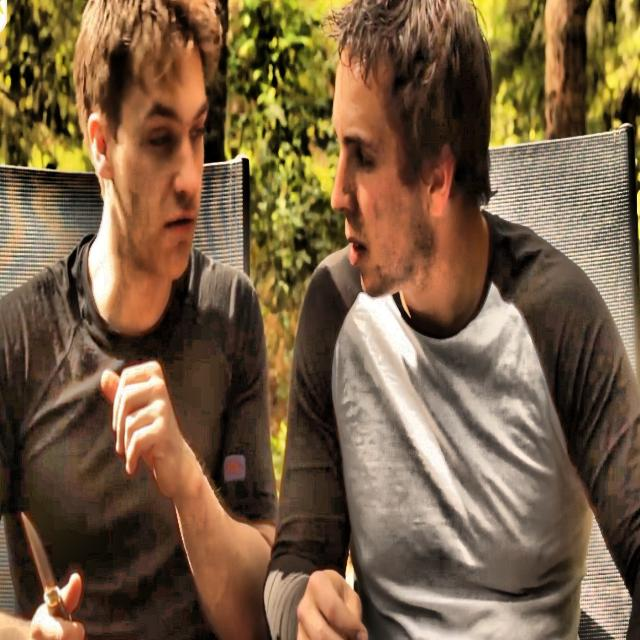knife: (21, 510, 68, 623)
